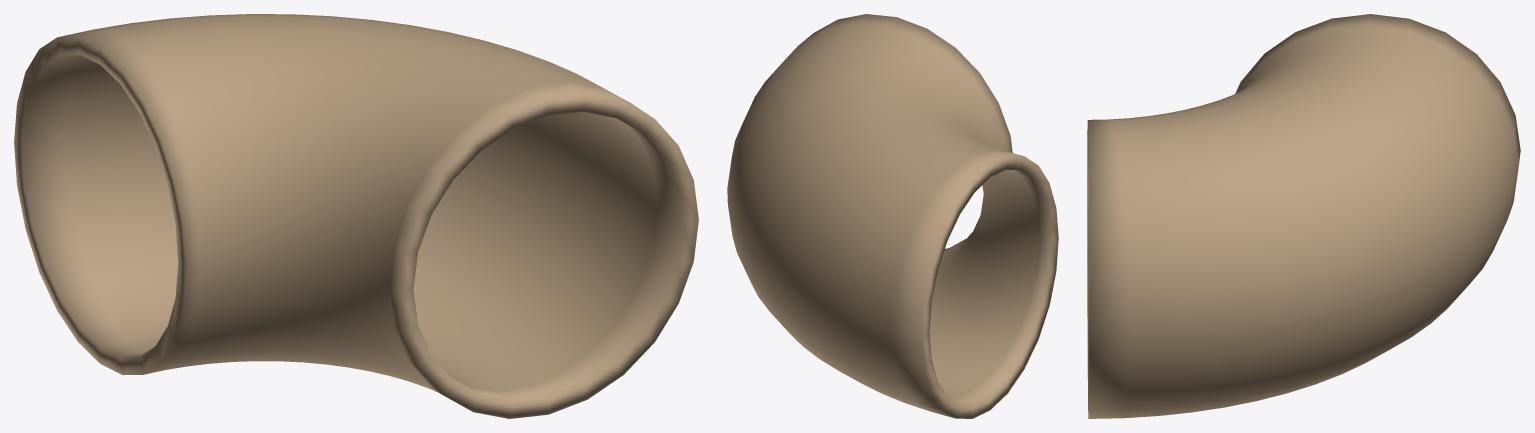
File: prop_tunnel_curved.glb
The picture shows the model from 3 angles, left to right: view 1: azimuth 30°, elevation 25°; view 2: azimuth 150°, elevation 25°; view 3: azimuth 270°, elevation 25°; orthographic projection. The views are drawn at different scales.
Visible parts, largest first — view 1: prop_tunnel_curved; view 2: prop_tunnel_curved; view 3: prop_tunnel_curved.
Boxes of the visible parts, box(x1,y1,x2,y2) form: prop_tunnel_curved: box(14, 14, 698, 418); prop_tunnel_curved: box(727, 14, 1058, 418); prop_tunnel_curved: box(1087, 14, 1520, 418).
Size of the model in its own units: 0.1227 by 0.085 by 0.1227.
